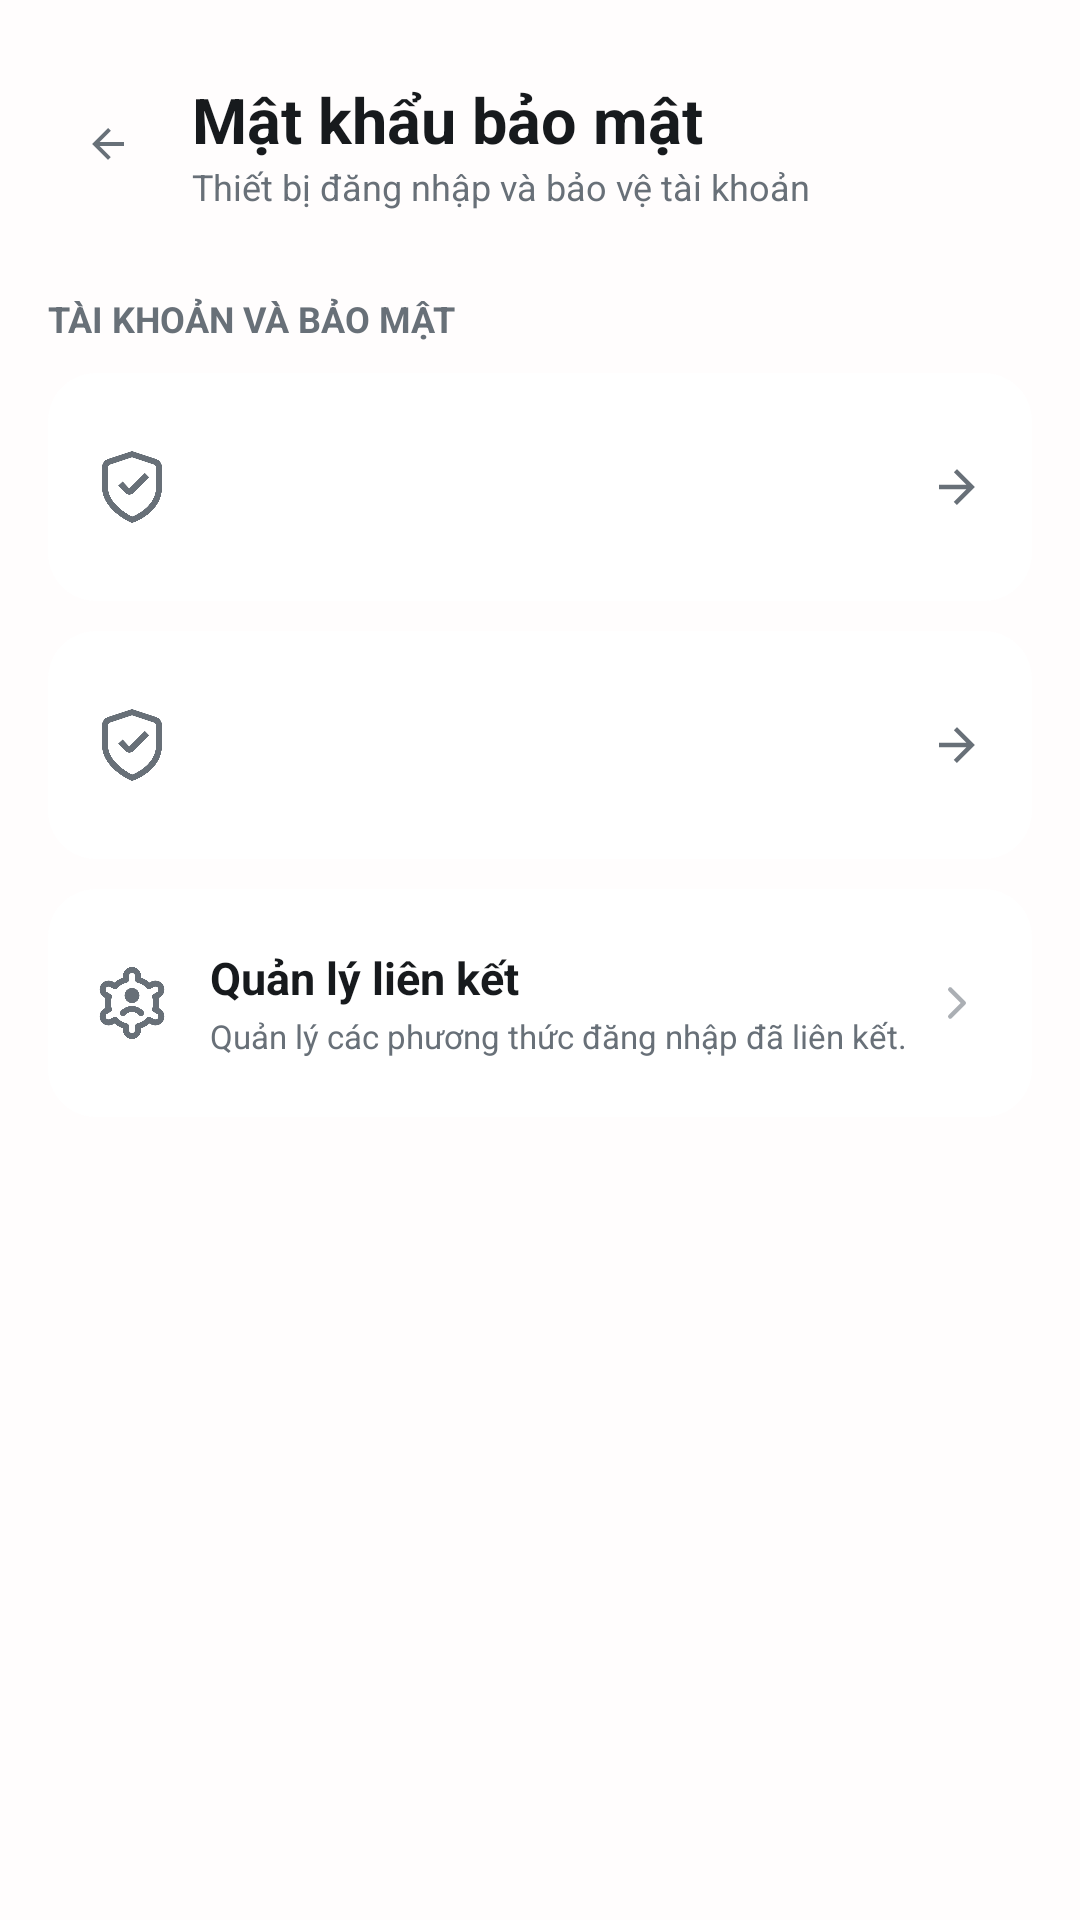

Icons on this 1080 × 1920 Android screen, each with the point to tap as [x,y]:
chevron right: [957,1003]
Quay lại: [108,144]
security: [132,487], [132,745]
user: [132,1003]
